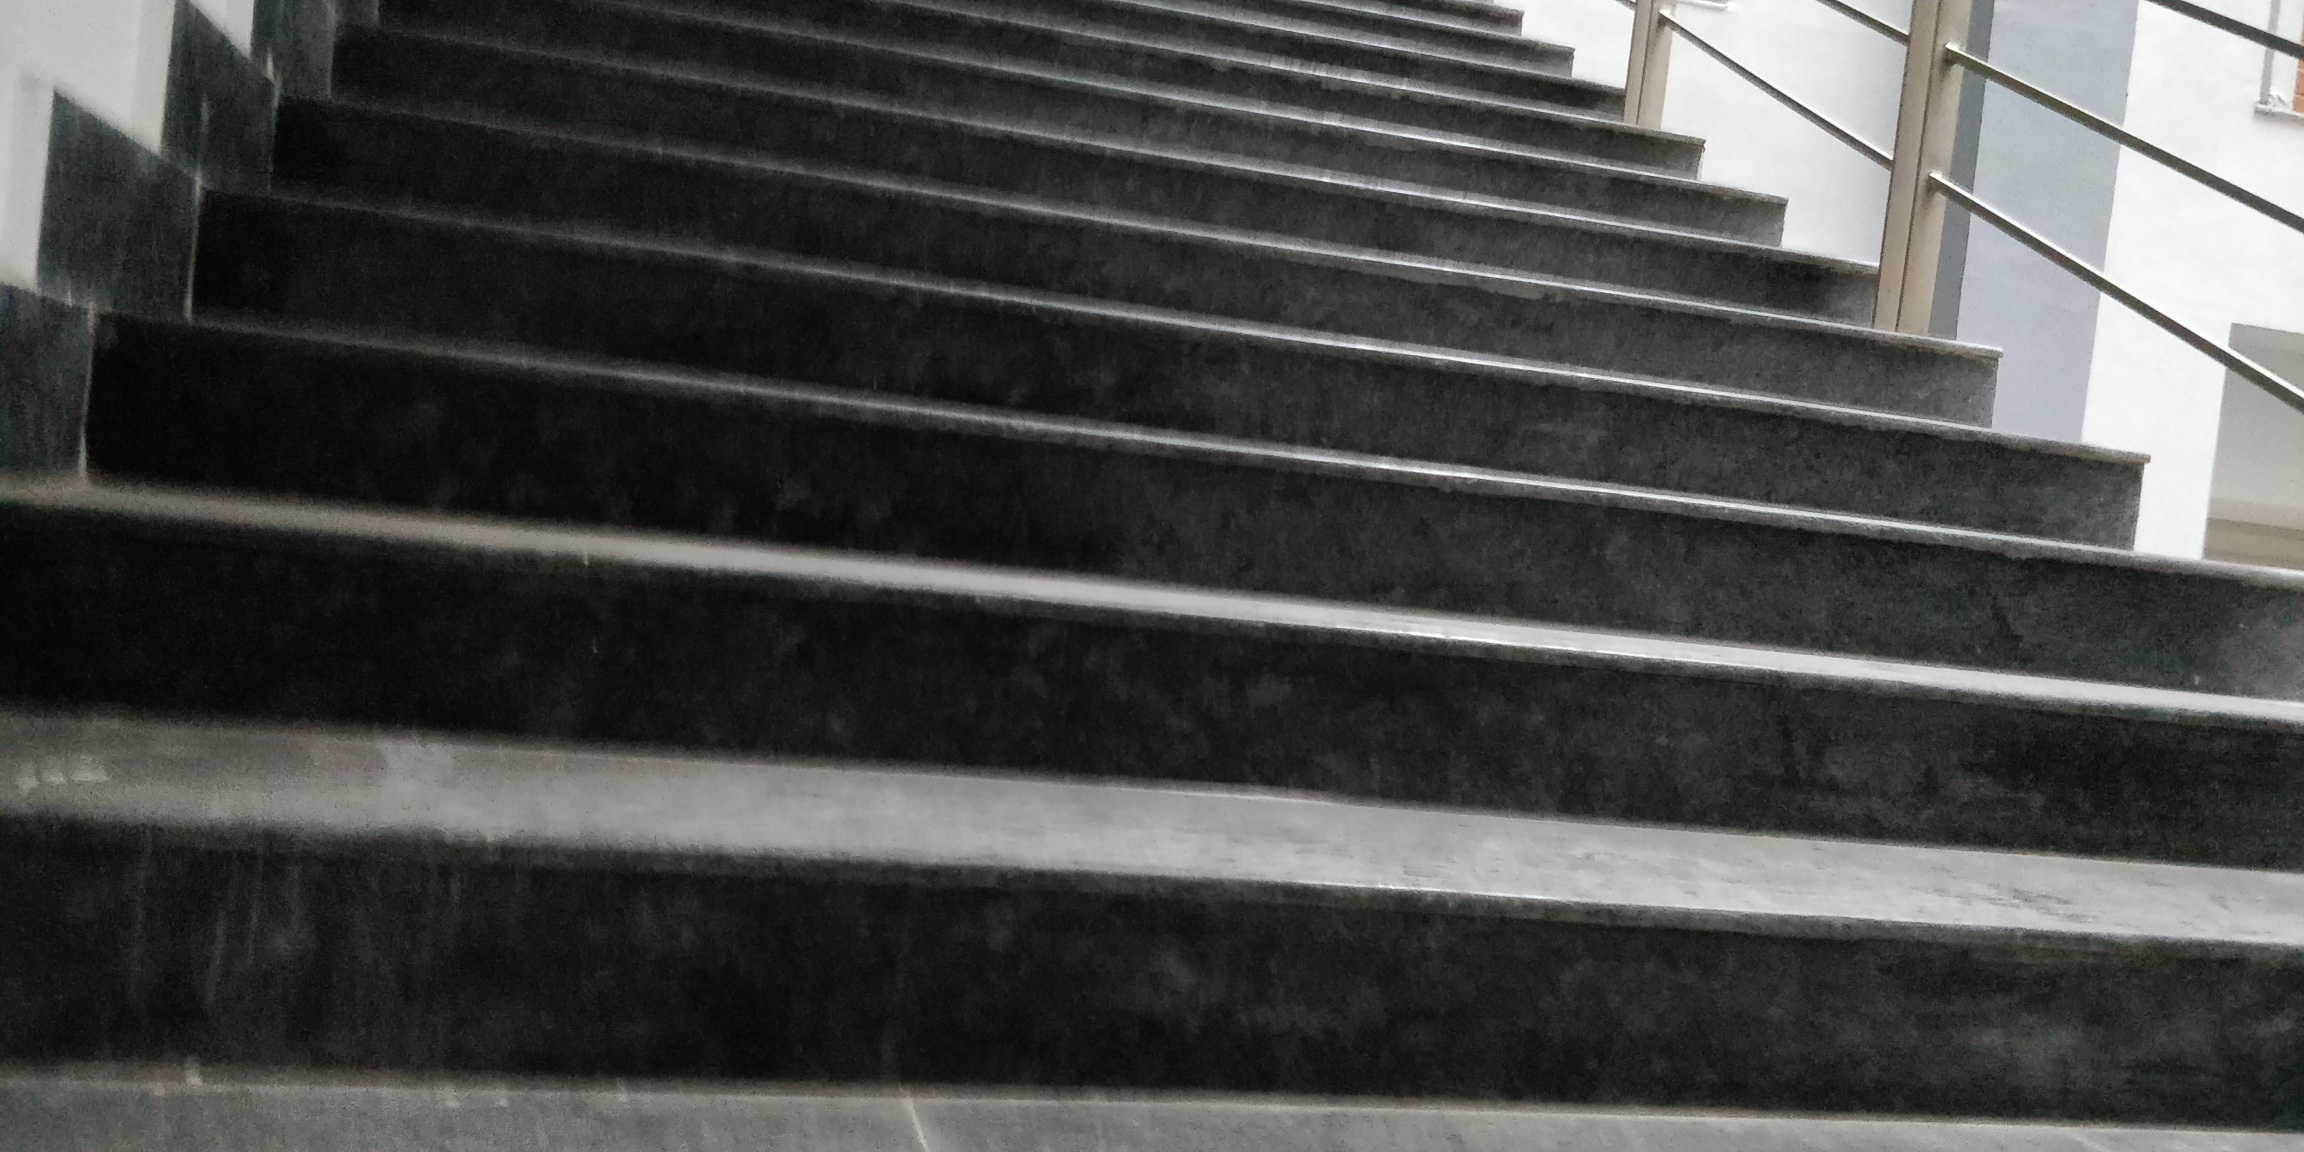stairs_up: (35, 1, 2300, 1131)
